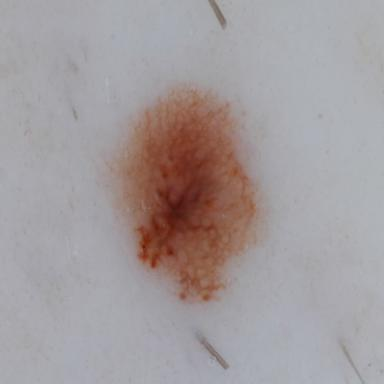nevus: (110, 86, 264, 302)
